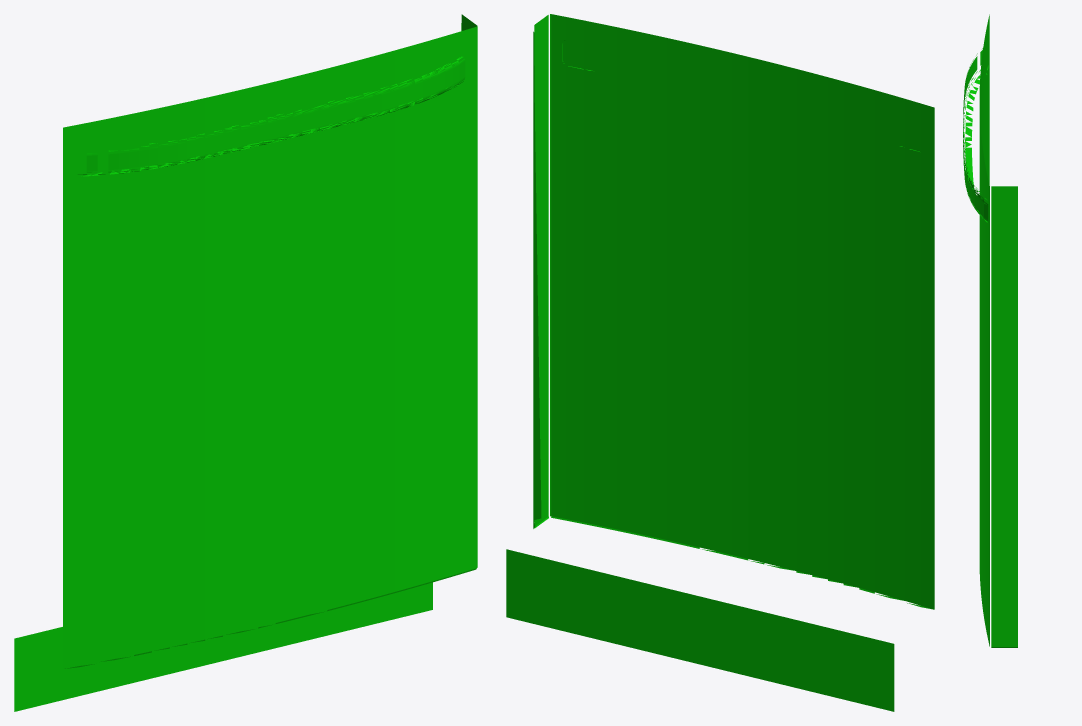
The model's file is pred_area.obj.
The picture shows the model from 3 angles, left to right: view 1: azimuth 30°, elevation 25°; view 2: azimuth 150°, elevation 25°; view 3: azimuth 270°, elevation 25°; orthographic projection. The views are drawn at different scales.
Size of the model in its own units: 1.05 by 1.48 by 0.2669.
